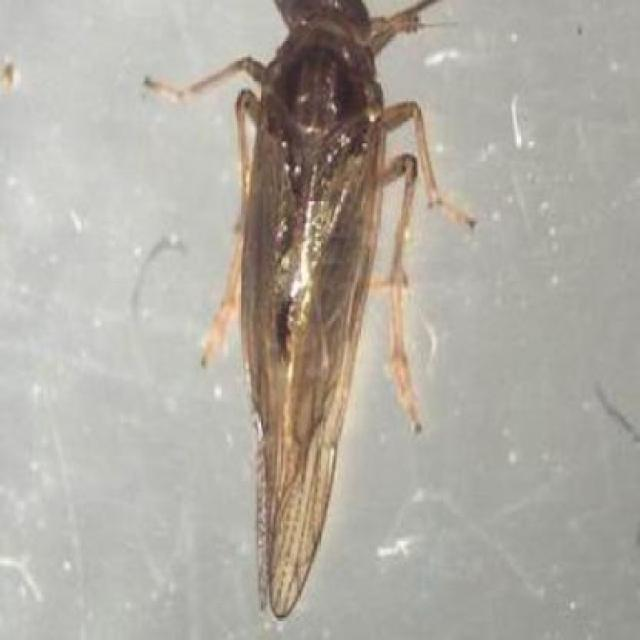brown-planthopper: (212, 0, 426, 614)
